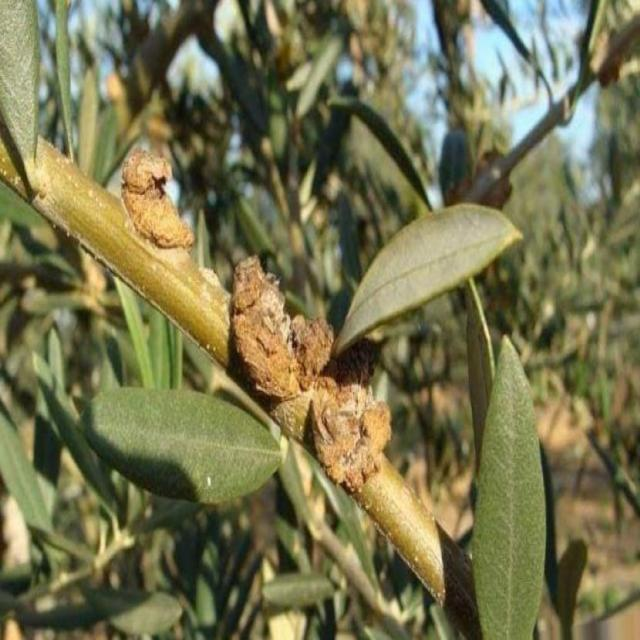Tuberculosis: (230, 257, 395, 506), (122, 145, 182, 258)
